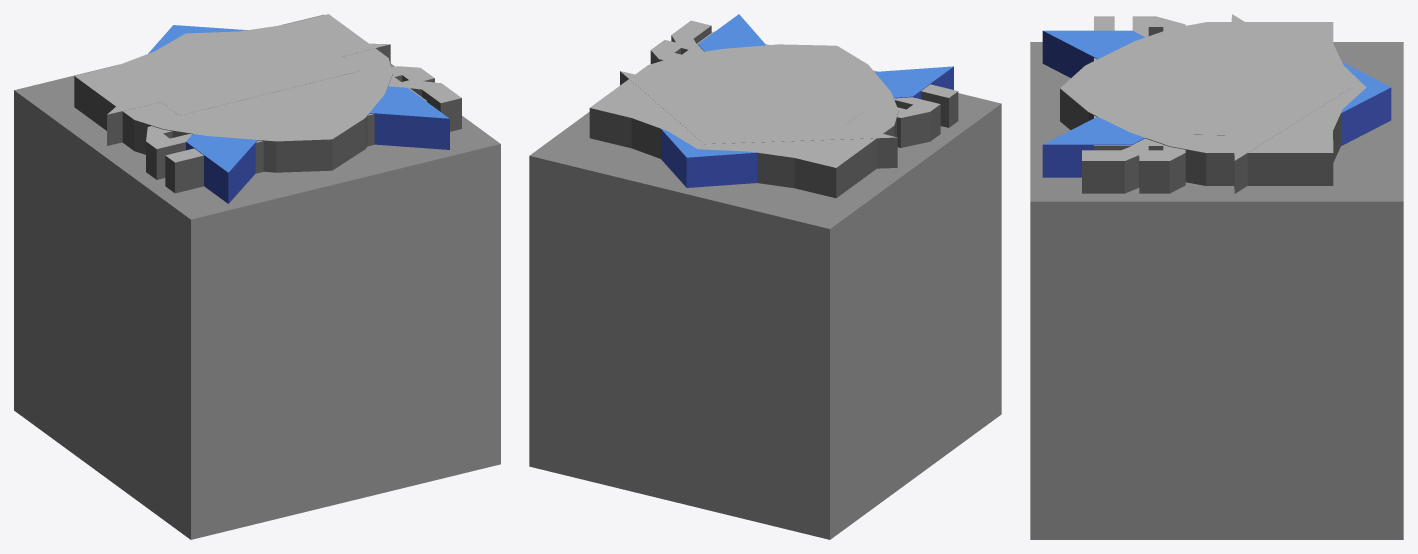
Rendered from PlayerUnit.FBX.
3 renders of one model, left to right at view 1: azimuth 30°, elevation 25°; view 2: azimuth 150°, elevation 25°; view 3: azimuth 270°, elevation 25°, orthographic. The views are drawn at different scales.
Parts seen in each view (by area): view 1: PlayerUnit, Bonus_Shield, Bonus_Super, Bonus_Speed; view 2: PlayerUnit, Bonus_Shield, Bonus_Super, Bonus_Speed; view 3: PlayerUnit, Bonus_Shield, Bonus_Super, Bonus_Speed.
Boxes of the visible parts, left/top/right/bottom form: PlayerUnit: left=14, top=14, right=500, bottom=539; Bonus_Shield: left=74, top=14, right=392, bottom=172; Bonus_Super: left=107, top=38, right=461, bottom=193; Bonus_Speed: left=148, top=25, right=449, bottom=203; PlayerUnit: left=529, top=93, right=1001, bottom=539; Bonus_Shield: left=589, top=44, right=898, bottom=198; Bonus_Super: left=620, top=20, right=958, bottom=168; Bonus_Speed: left=661, top=14, right=953, bottom=187; PlayerUnit: left=1030, top=42, right=1403, bottom=539; Bonus_Shield: left=1060, top=22, right=1366, bottom=185; Bonus_Super: left=1082, top=14, right=1351, bottom=193; Bonus_Speed: left=1042, top=30, right=1391, bottom=177.
Bounding box in the file's own units: 3.11 × 3.38 × 3.07.
